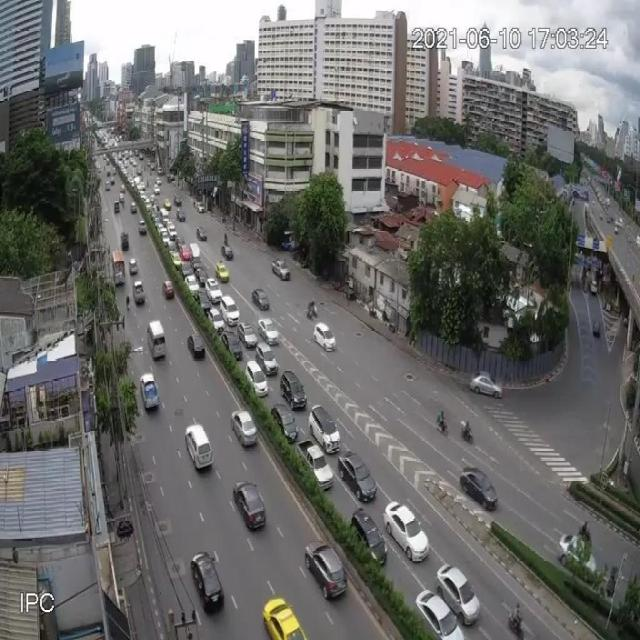Car: (190, 543, 227, 622), (435, 562, 480, 626), (383, 501, 428, 561), (414, 588, 465, 640), (304, 541, 348, 601), (349, 509, 386, 567), (337, 451, 376, 502), (264, 594, 308, 638), (299, 439, 334, 492), (232, 479, 266, 531), (459, 467, 498, 510), (308, 404, 341, 453), (558, 531, 598, 571), (186, 422, 213, 470), (270, 402, 298, 442), (230, 409, 258, 449), (280, 370, 307, 410), (470, 372, 502, 399), (245, 361, 269, 397), (139, 372, 160, 411), (255, 342, 278, 376), (313, 322, 336, 352), (220, 330, 242, 359), (258, 317, 280, 346), (237, 320, 258, 348), (187, 332, 206, 360), (271, 258, 291, 281), (207, 306, 224, 333), (251, 288, 270, 310), (132, 278, 146, 304), (185, 277, 200, 301), (215, 260, 229, 282), (193, 265, 207, 286), (162, 279, 175, 299), (221, 243, 234, 260), (196, 226, 207, 242), (129, 258, 138, 275), (138, 218, 147, 235), (176, 208, 186, 222), (195, 201, 206, 213), (174, 196, 182, 207), (114, 200, 120, 212)
Van: (147, 320, 166, 358)
